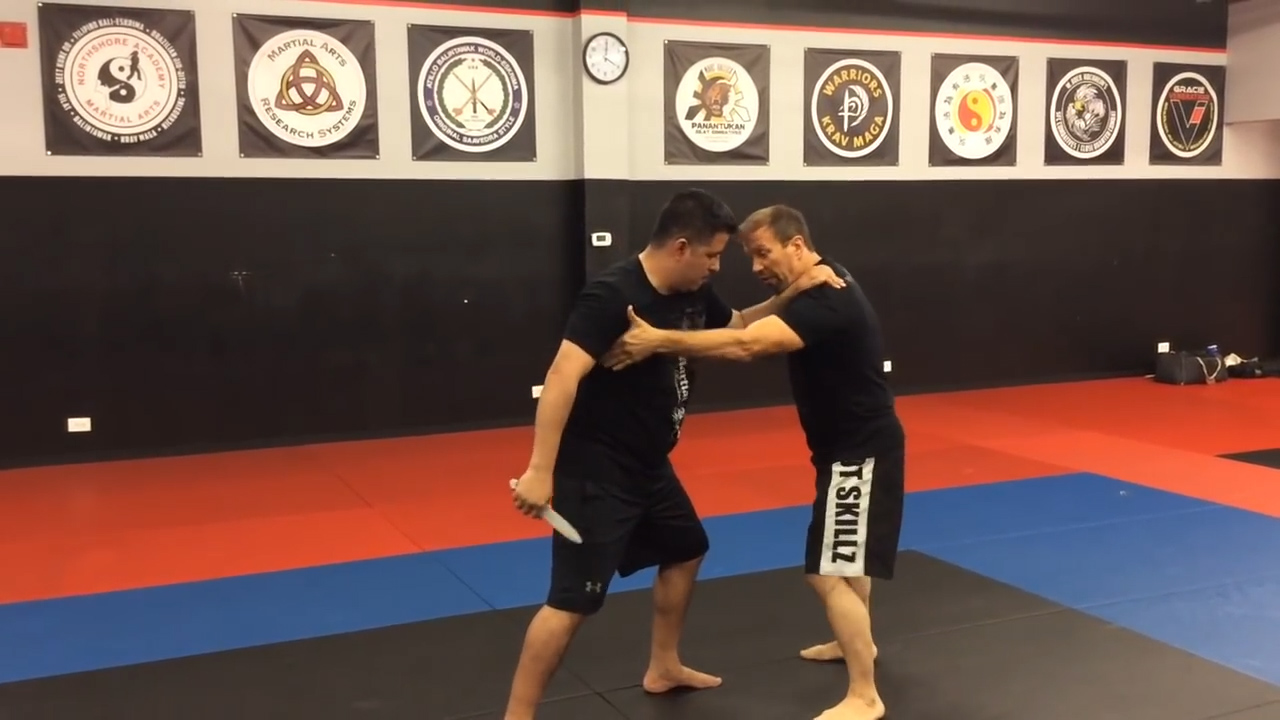knife: (499, 465, 592, 552)
